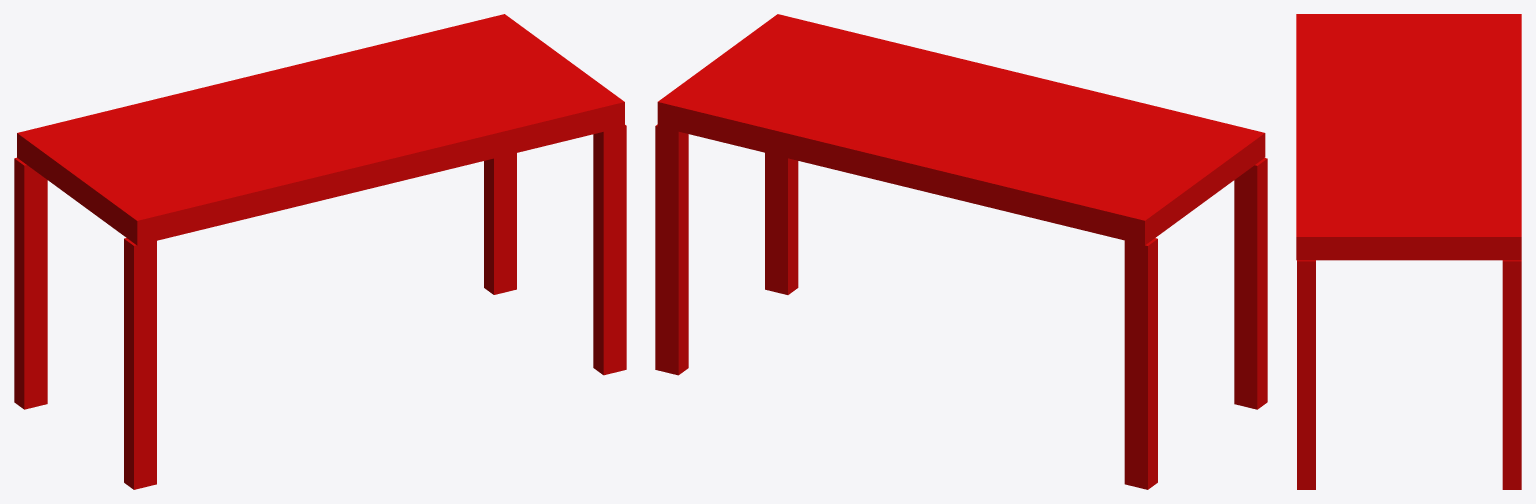
File: SM_Bld_IndustrialWalkway_Preset_02_Collision.fbx
3 views of the same model, side by side, from view 1: azimuth 30°, elevation 25°; view 2: azimuth 150°, elevation 25°; view 3: azimuth 270°, elevation 25° (orthographic). The views are drawn at different scales.
Visible parts, largest first — view 1: SM_Bld_IndustrialWalkway_Preset_02_Collision; view 2: SM_Bld_IndustrialWalkway_Preset_02_Collision; view 3: SM_Bld_IndustrialWalkway_Preset_02_Collision.
Boxes of the visible parts, x1,y1,x2,y2 form: SM_Bld_IndustrialWalkway_Preset_02_Collision: (14,14,626,489); SM_Bld_IndustrialWalkway_Preset_02_Collision: (655,14,1267,489); SM_Bld_IndustrialWalkway_Preset_02_Collision: (1296,14,1521,489).
Size of the model in its own units: 597 by 311 by 252.
